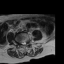CCS_severe_stenosis: (23, 40, 24, 47)
LFS_severe_stenosis: (26, 39, 28, 45)
LLS_normal: (24, 40, 26, 46)
RFS_severe_stenosis: (19, 40, 21, 46)
RLS_normal: (21, 40, 23, 46)
